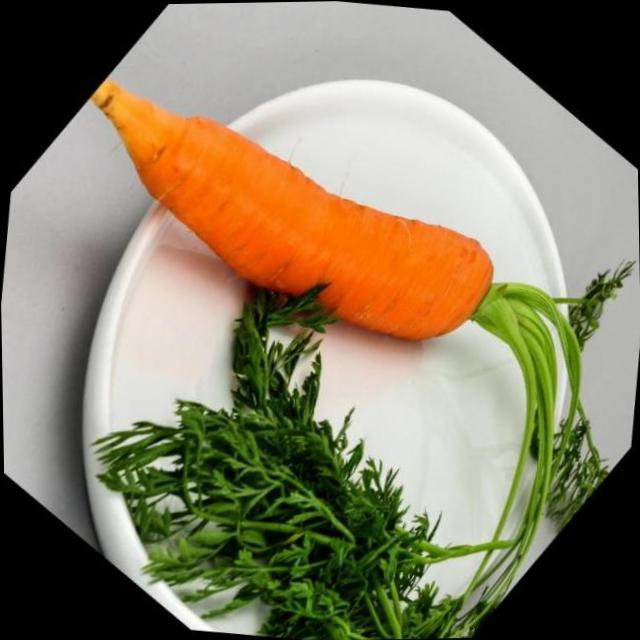carrot: (35, 0, 640, 513)
